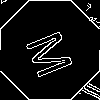M: (25, 25, 83, 81)
